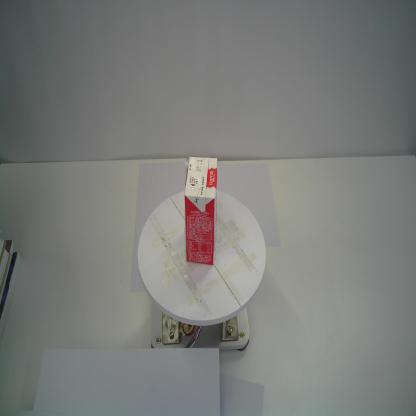Milk: (184, 156, 217, 265)
